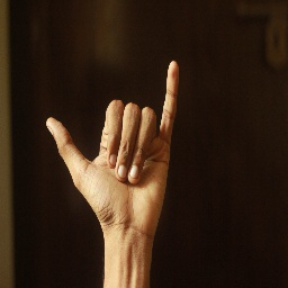J: (40, 57, 194, 239)
